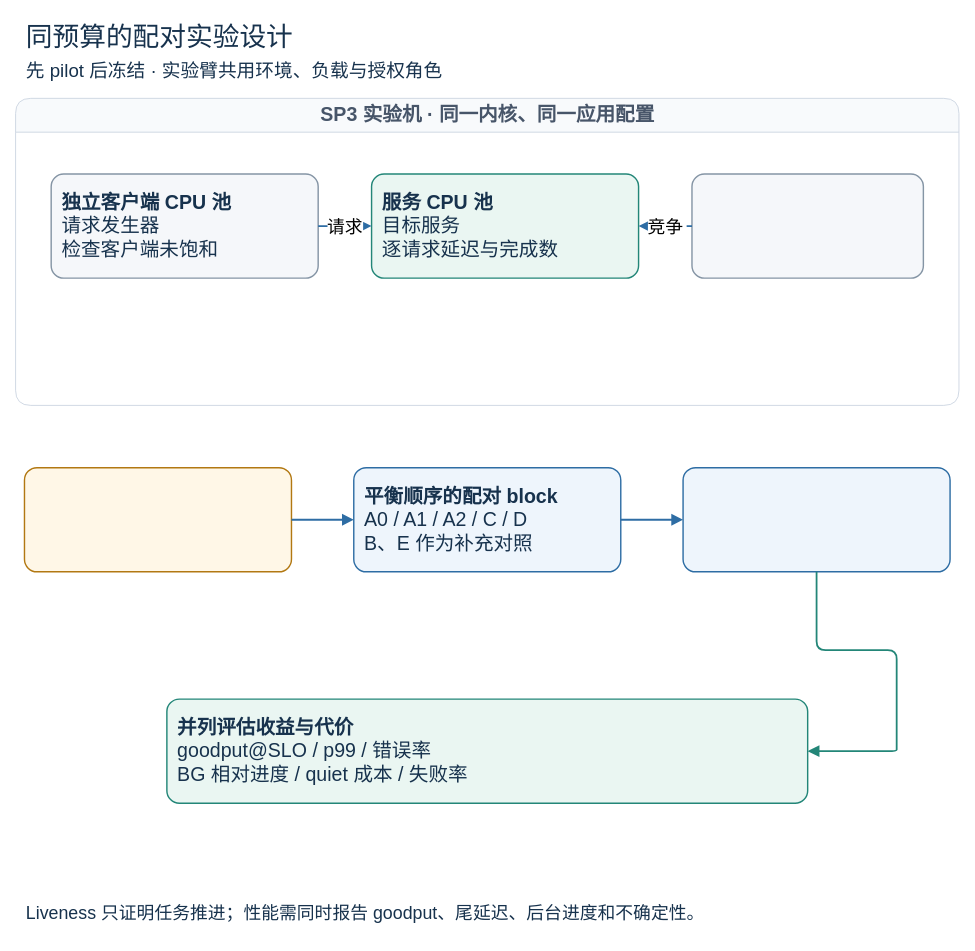
Image size: 975x951. Some labels were removed from this diagram. Each missing label, with the centre of its shape:
"冻结协议与构建 机器 / 预算 / SLO / 种子 参数与无效轮次规则" belongs at point 157,519.
"原始件重算 逐 block 配对 bootstrap 置信区间" belongs at point 816,519.
"同池后台干扰 显式 BACKGROUND 可计数的工作进度" belongs at point 807,225.
